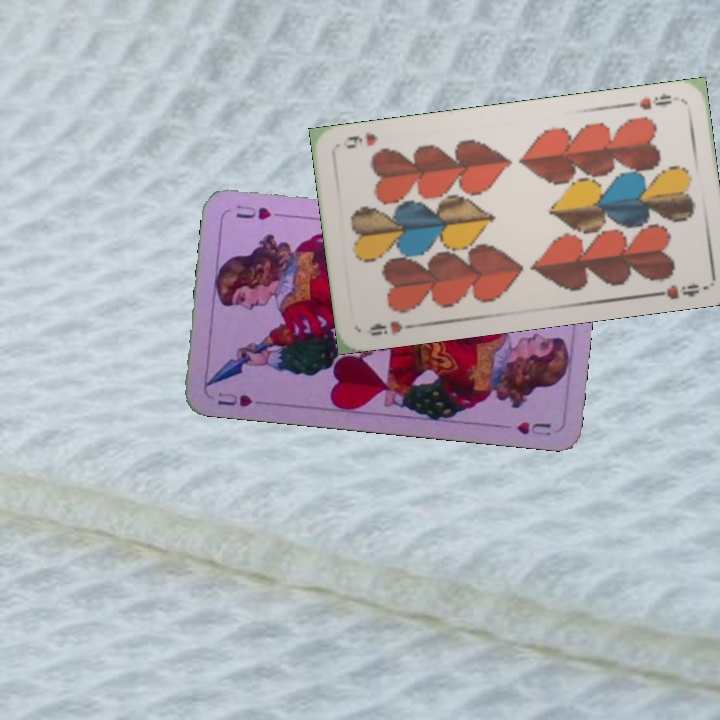H9: (363, 317, 419, 339), (623, 89, 674, 113)
HU: (213, 388, 255, 409)
